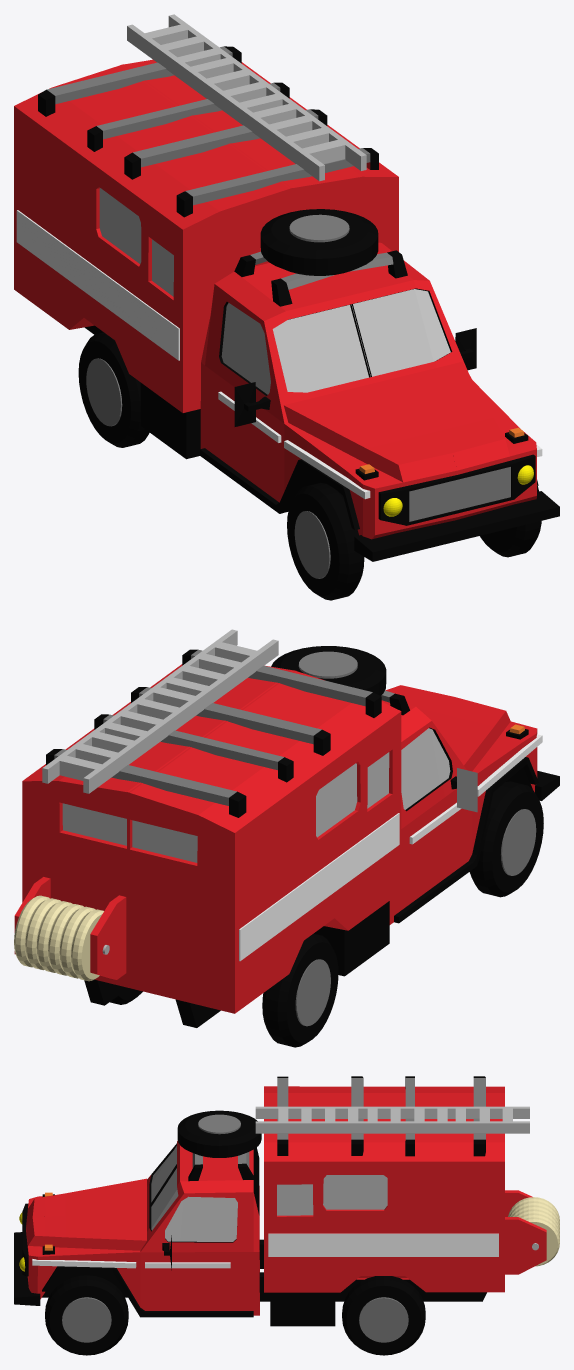
The model's file is Авто №4.fbx.
The picture shows the model from 3 angles, top to bottom: view 1: azimuth 30°, elevation 25°; view 2: azimuth 150°, elevation 25°; view 3: azimuth 270°, elevation 25°; orthographic projection. The views are drawn at different scales.
Visible parts, largest first — view 1: Cube, Cube.001, Cube.002, Cylinder.004, Cylinder, Cylinder.003, Cylinder.002; view 2: Cube.001, Cube, Cube.002, Cube.003, Cylinder.004, Cylinder.003, Cylinder; view 3: Cube.001, Cube, Cube.002, Cylinder.002, Cylinder.001, Cube.003, Cylinder.
Boxes of the visible parts, left/top/right/bottom form: Cube: left=84, top=242, right=559, bottom=561; Cube.001: left=14, top=46, right=398, bottom=412; Cube.002: left=127, top=14, right=366, bottom=181; Cylinder.004: left=287, top=483, right=364, bottom=600; Cylinder: left=260, top=209, right=378, bottom=275; Cylinder.003: left=78, top=332, right=149, bottom=447; Cylinder.002: left=480, top=486, right=541, bottom=557; Cube.001: left=22, top=649, right=401, bottom=1013; Cube: left=84, top=685, right=559, bottom=1027; Cube.002: left=42, top=629, right=278, bottom=793; Cube.003: left=14, top=877, right=126, bottom=981; Cylinder.004: left=469, top=781, right=543, bottom=897; Cylinder.003: left=262, top=933, right=338, bottom=1047; Cylinder: left=271, top=646, right=386, bottom=695; Cube.001: left=264, top=1076, right=504, bottom=1292; Cube: left=14, top=1140, right=486, bottom=1326; Cube.002: left=255, top=1106, right=529, bottom=1133; Cylinder.002: left=45, top=1275, right=128, bottom=1355; Cylinder.001: left=342, top=1276, right=425, bottom=1355; Cube.003: left=505, top=1190, right=559, bottom=1274; Cylinder: left=177, top=1110, right=261, bottom=1157.
Size of the model in its own units: 54.83 by 68.11 by 151.
